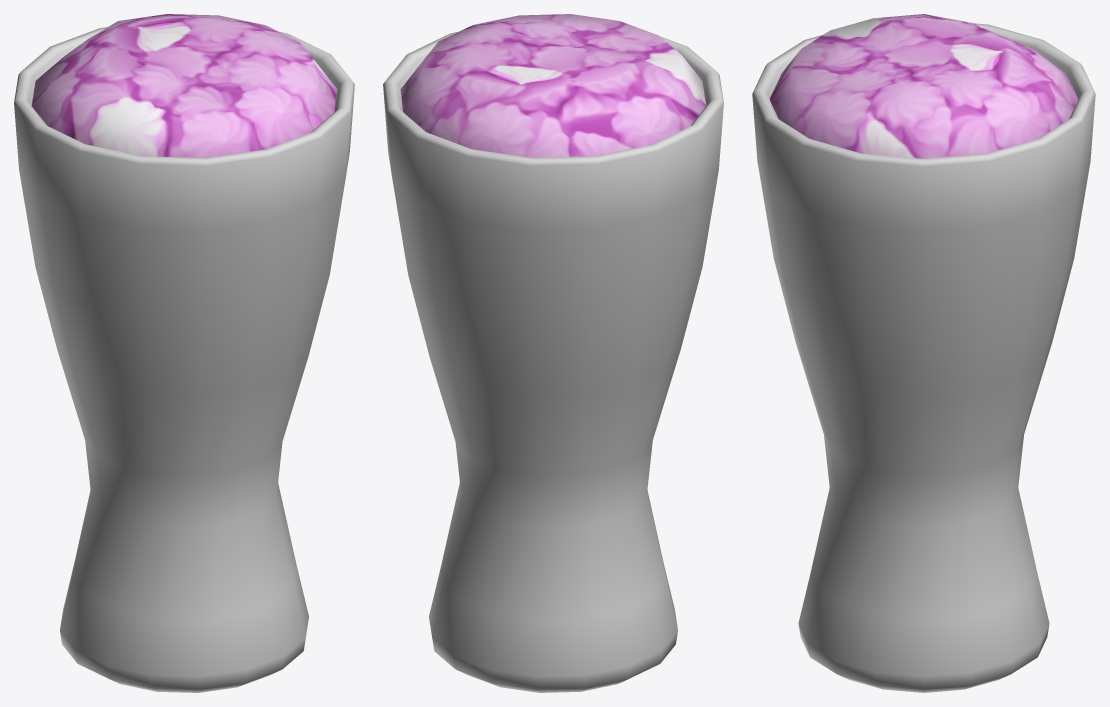
Rendered from BuffetCandy01_4.FBX.
The picture shows the model from 3 angles, left to right: view 1: azimuth 30°, elevation 25°; view 2: azimuth 150°, elevation 25°; view 3: azimuth 270°, elevation 25°; orthographic projection.
Parts seen in each view (by area): view 1: BuffetCandy01_4; view 2: BuffetCandy01_4; view 3: BuffetCandy01_4.
Boxes of the visible parts, x1,y1,x2,y2 form: BuffetCandy01_4: (14, 14, 354, 692); BuffetCandy01_4: (383, 14, 723, 692); BuffetCandy01_4: (752, 14, 1095, 692).
Size of what is drawn, in the model's own units: 0.1662 by 0.3171 by 0.1662.
